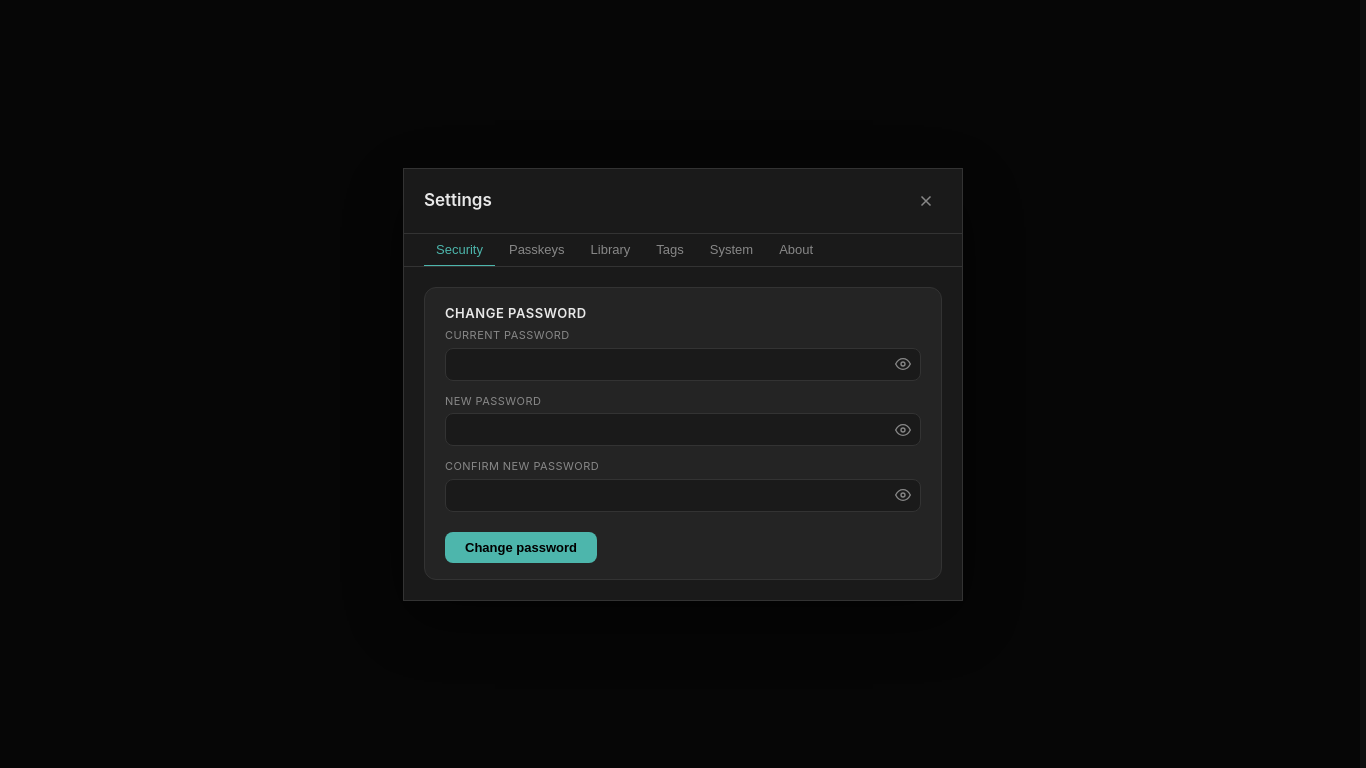
Settings modal — passkey rename › clicking Rename shows an inline input pre-filled with the passkey name
The width and height of the screenshot is (1366, 768).
Click the tab "Passkeys": (537, 250) [497,234,577,266]
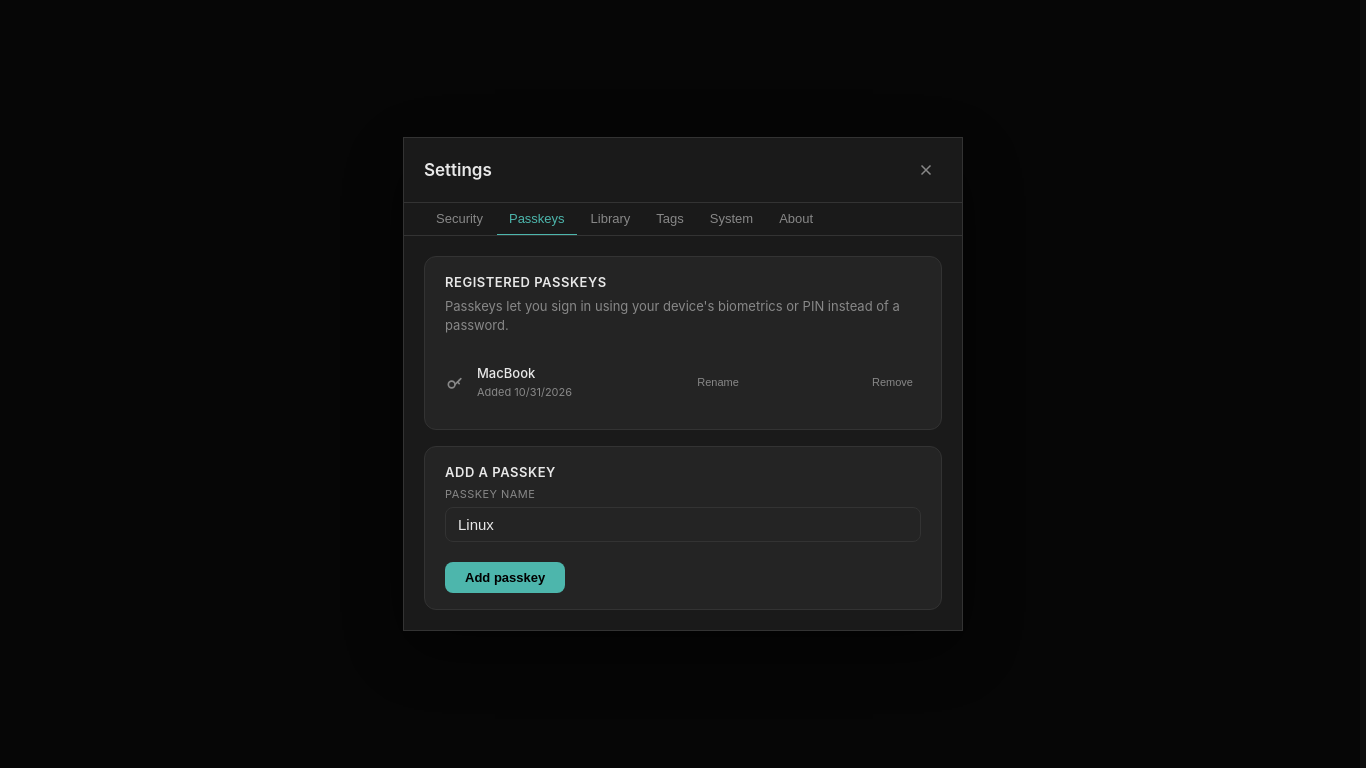
Expected: the button with aria-label "Rename MacBook" is shown
Click the button with aria-label "Rename MacBook": (718, 382) [689,374,747,390]
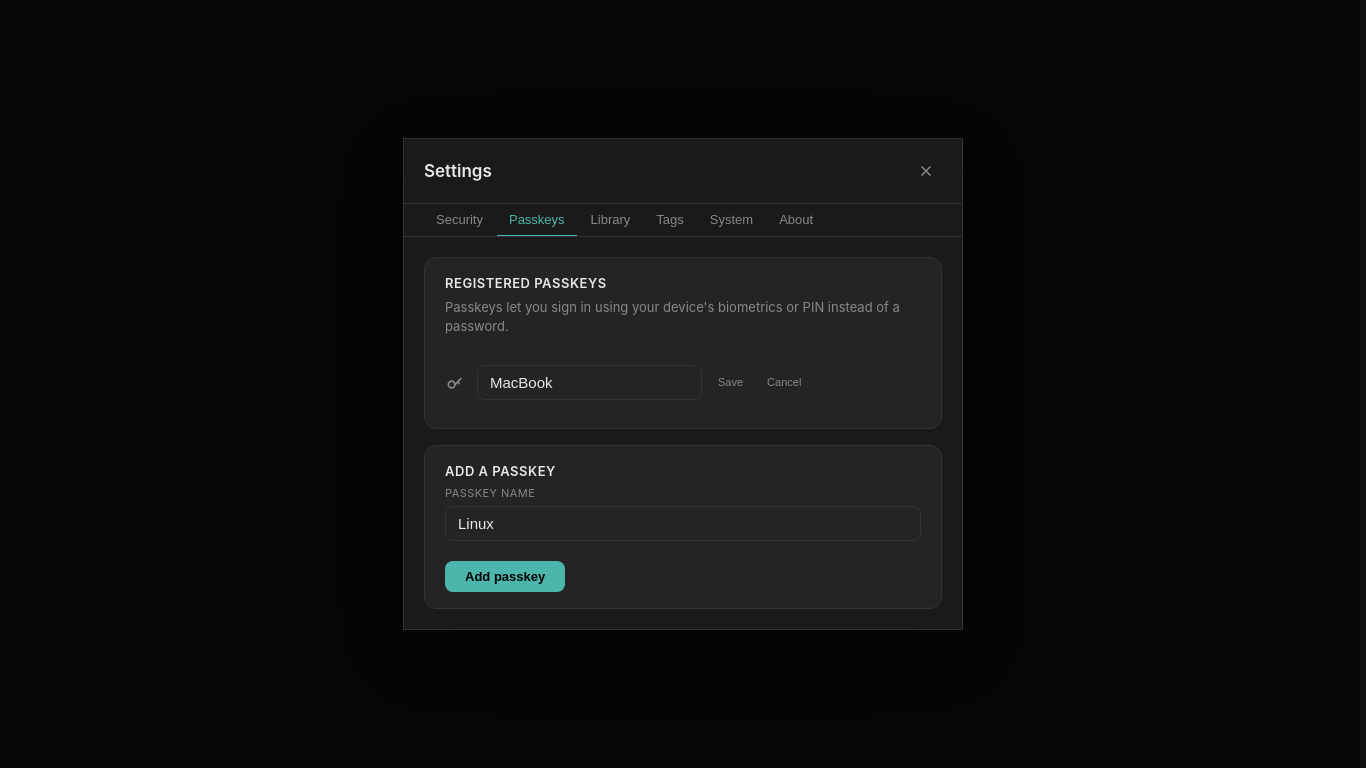
Expected: the field with class "rename-input" holds "MacBook", [477,365,702,400]
